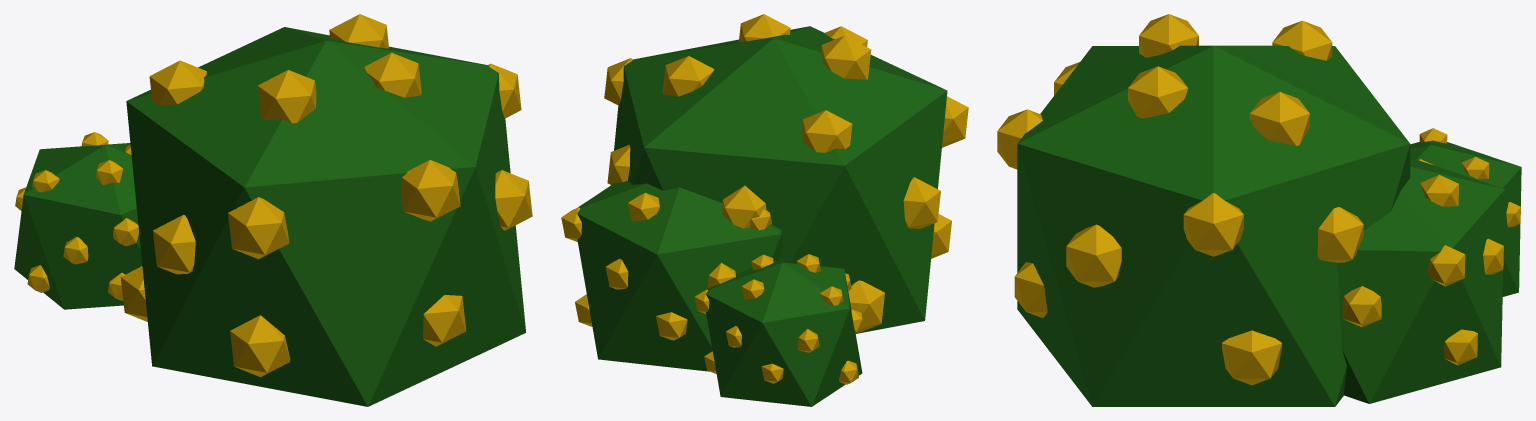
The model's file is Comida Recurso 3.glb.
3 renders of one model, left to right at view 1: azimuth 30°, elevation 25°; view 2: azimuth 150°, elevation 25°; view 3: azimuth 270°, elevation 25°, orthographic. The views are drawn at different scales.
Visible parts, largest first — view 1: Icosphere.002; view 2: Icosphere.002; view 3: Icosphere.002.
Boxes of the visible parts, bbox=[...] form: Icosphere.002: bbox=[14, 14, 532, 406]; Icosphere.002: bbox=[561, 14, 968, 406]; Icosphere.002: bbox=[997, 14, 1521, 406].
Size of the model in its own units: 1.99 by 1.4 by 2.27.
